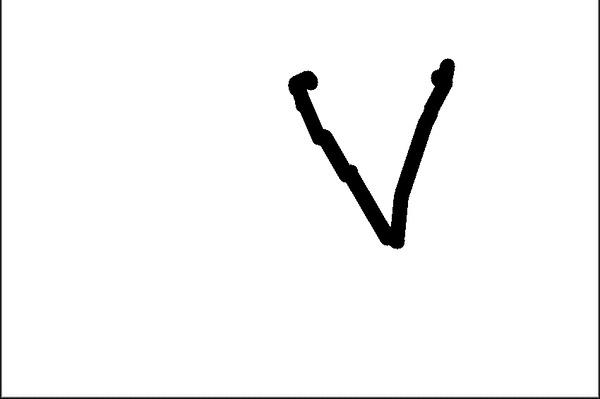V: (284, 49, 464, 249)
